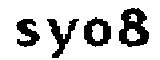8: (117, 5, 152, 53)
o: (83, 14, 112, 48)
s: (15, 18, 40, 51)
y: (42, 17, 80, 60)
